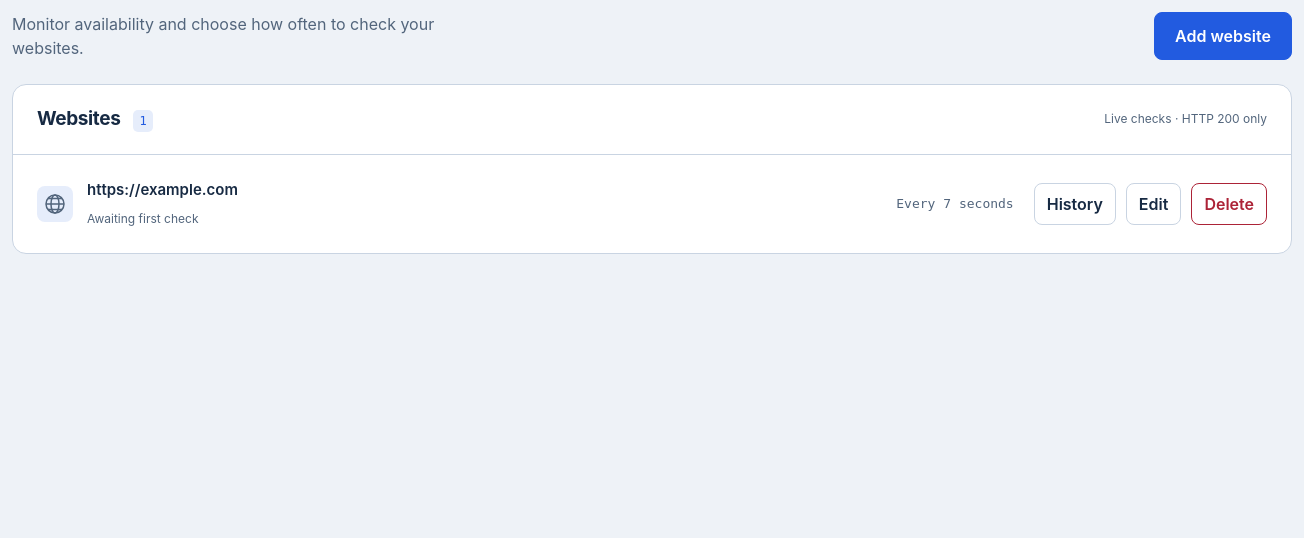
Test case: redirects when the session expires during delete
Expected: the text "https://example.com" is shown, [87,178,238,201]
What coordinates should you click on to do the following:
click the button "Delete"
I would click on:
 (1229, 204)
Its box is [1191,183,1267,225].
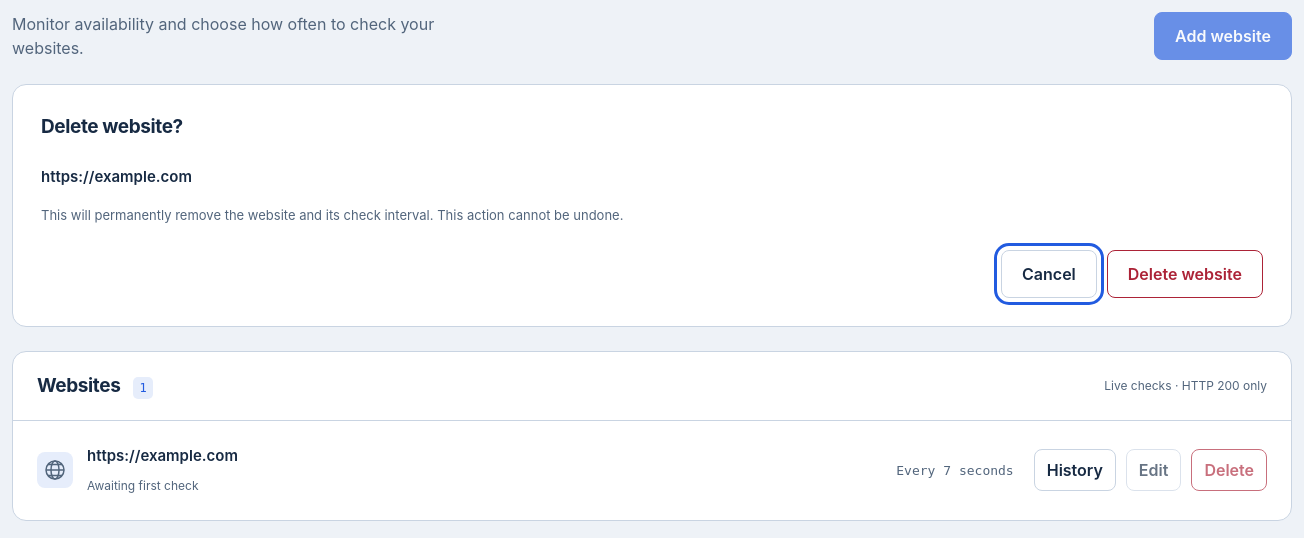
What coordinates should you click on to do the following:
click the button "Delete website"
I would click on:
 (1185, 274)
Its box is [1107,250,1263,298].
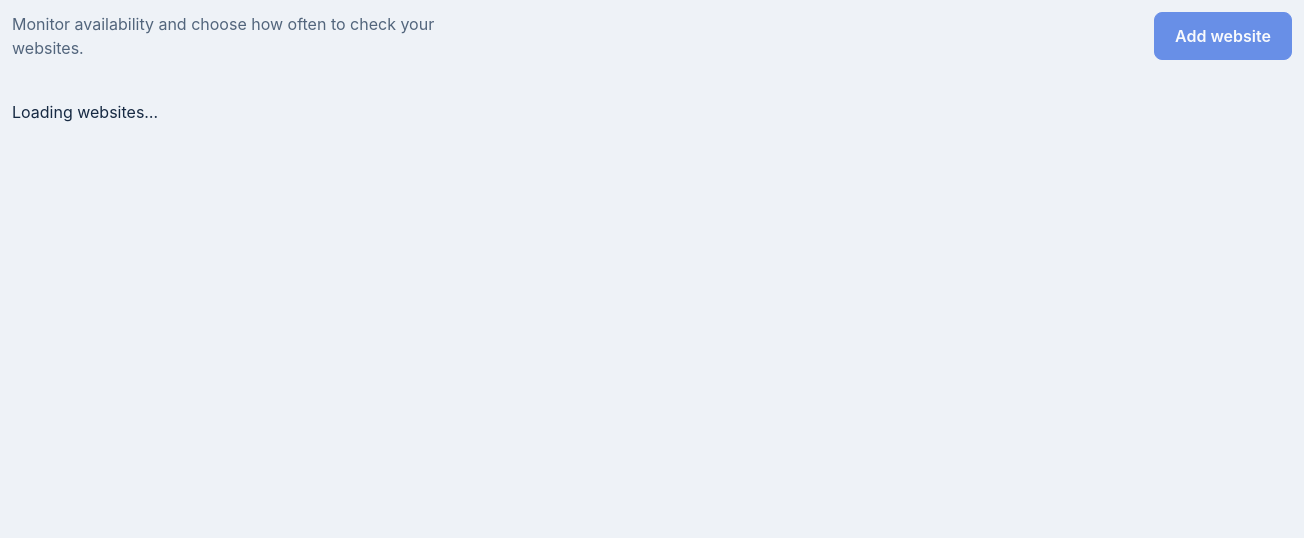
Expected: the list item "https://example.com Awaiting first check Every 7 seconds History Edit Delete" is gone
